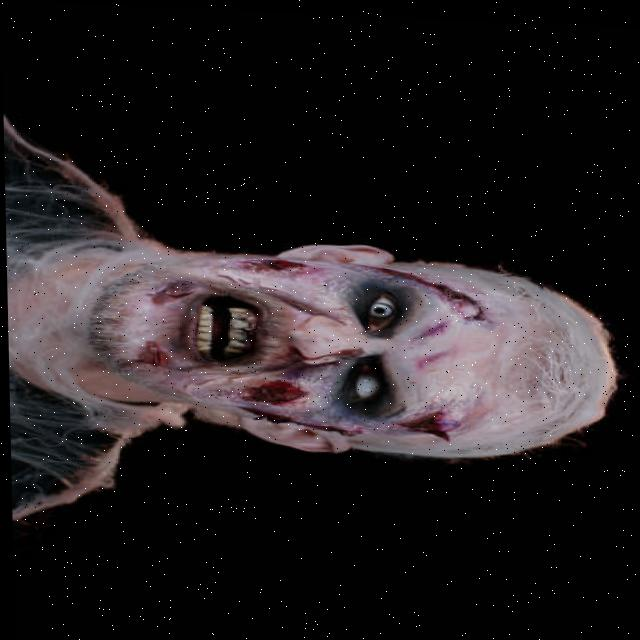Zombie: (107, 235, 587, 439)
